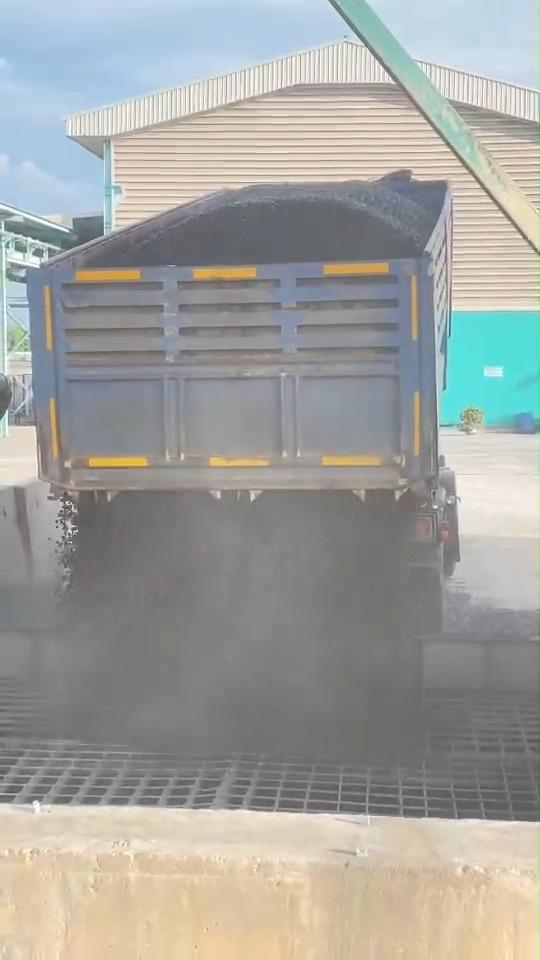gravel: (50, 487, 392, 747), (113, 181, 438, 265), (443, 580, 536, 641)
